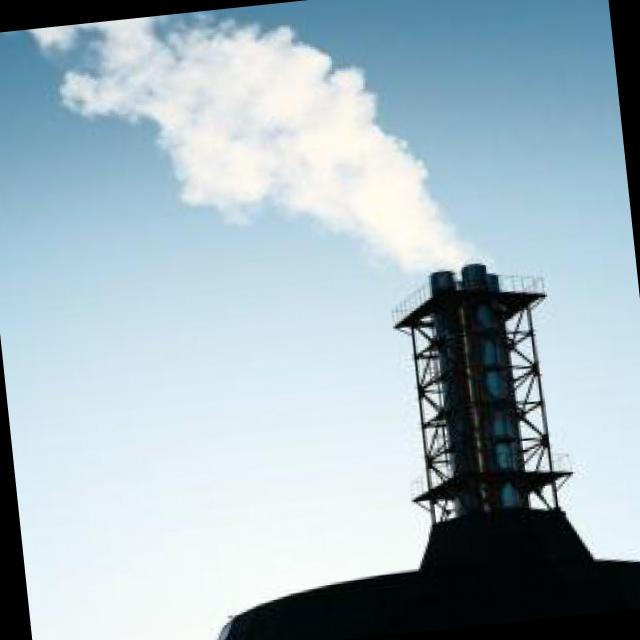smoke: (10, 0, 502, 311)
